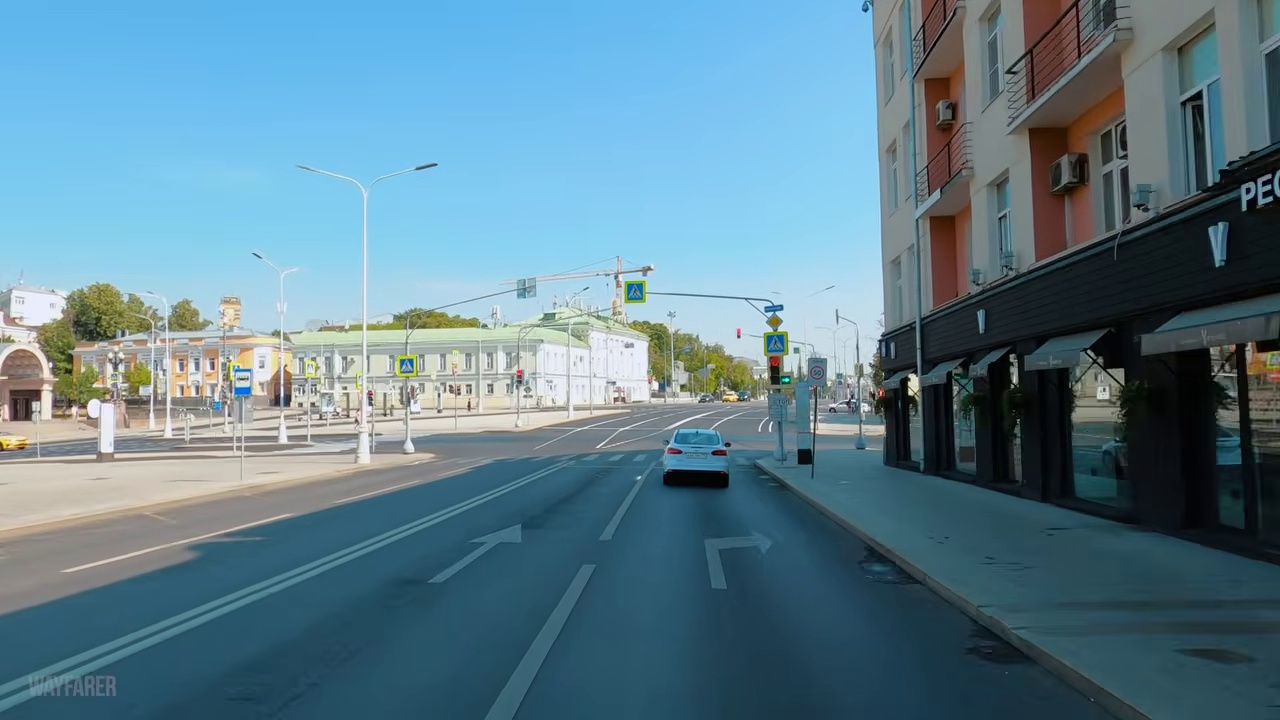acesa: (221, 299, 239, 322)
apagada: (414, 156, 439, 176)
